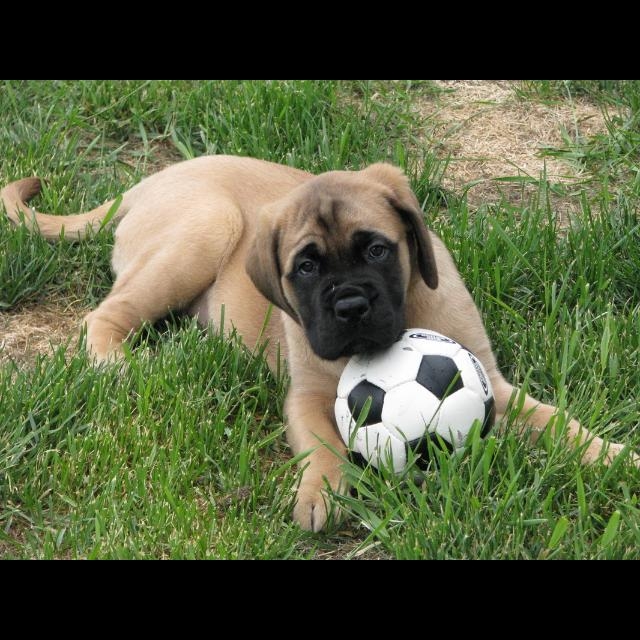mastiff: (2, 155, 639, 536)
